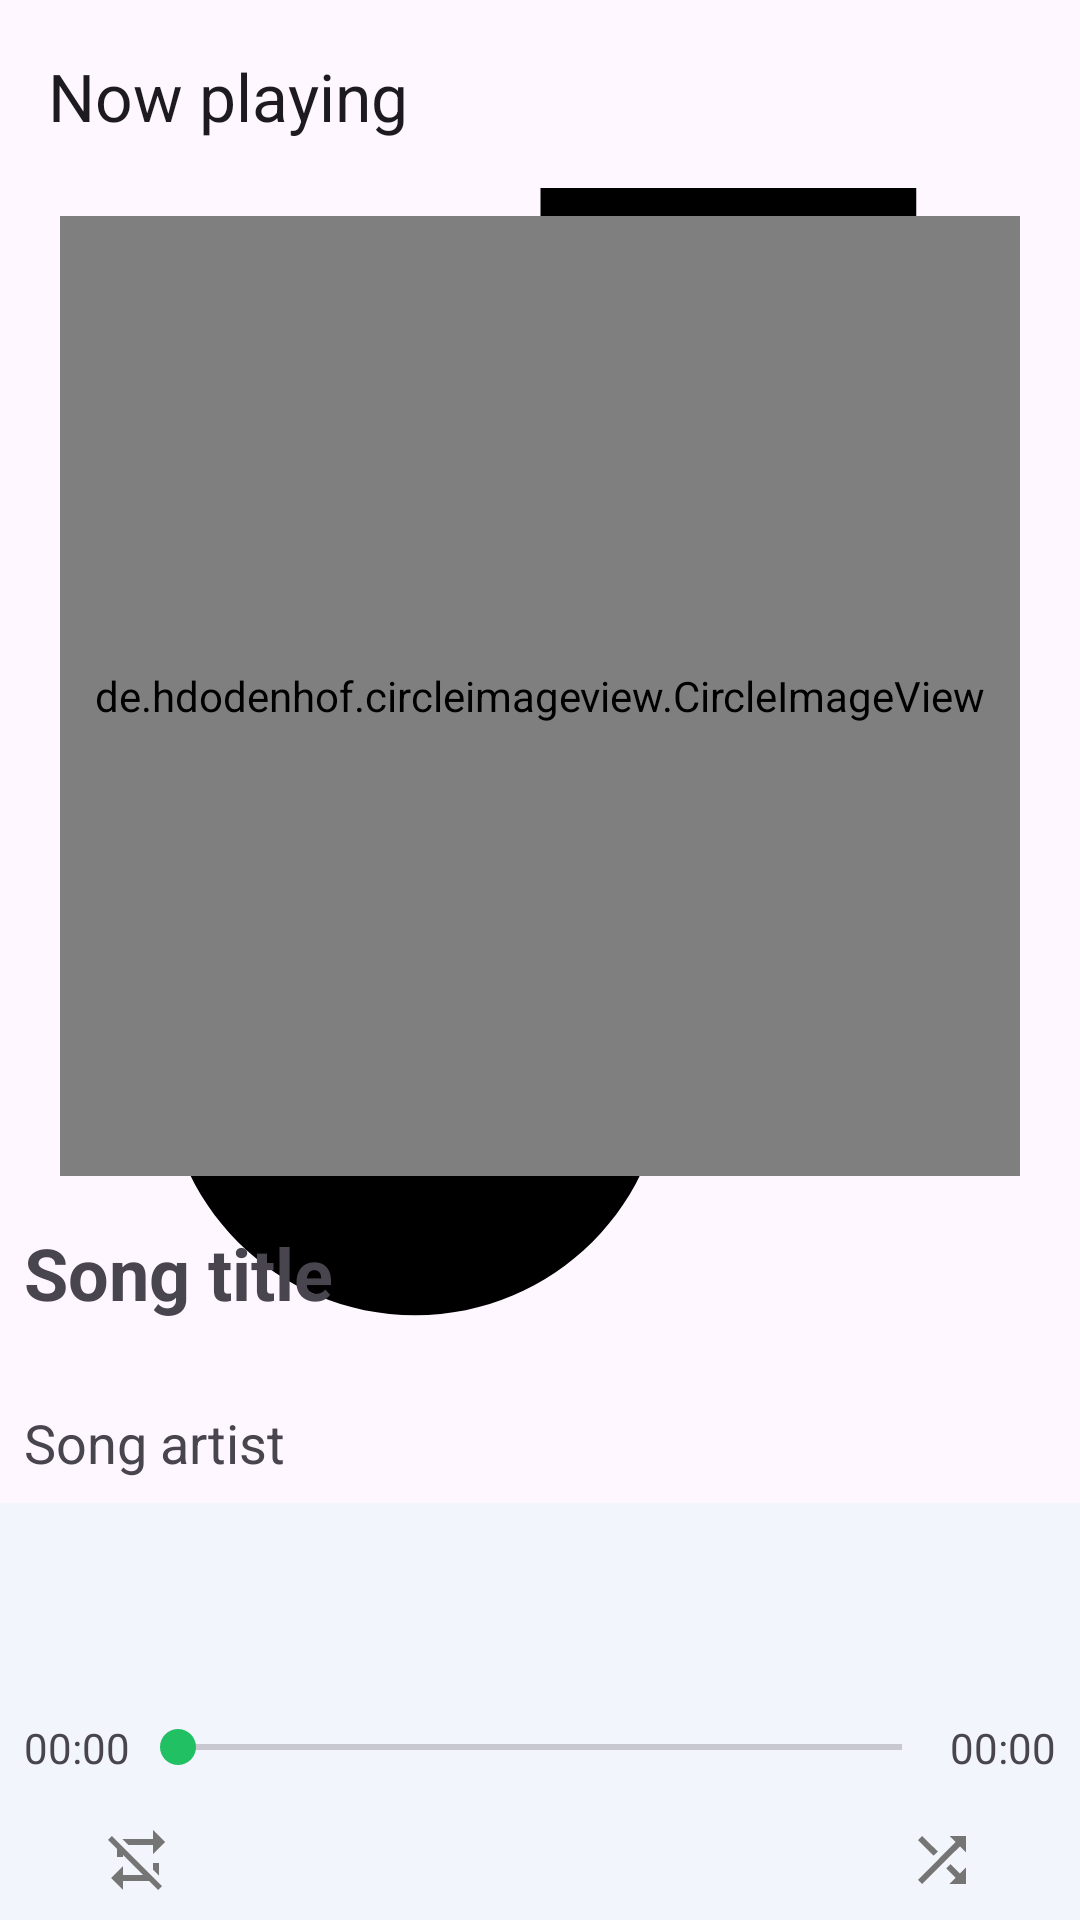

Icon click points for this 1080px×1920px phone screenshot, format point (x, y):
repeat off: point (136, 1860)
shuffle off: point (942, 1860)
